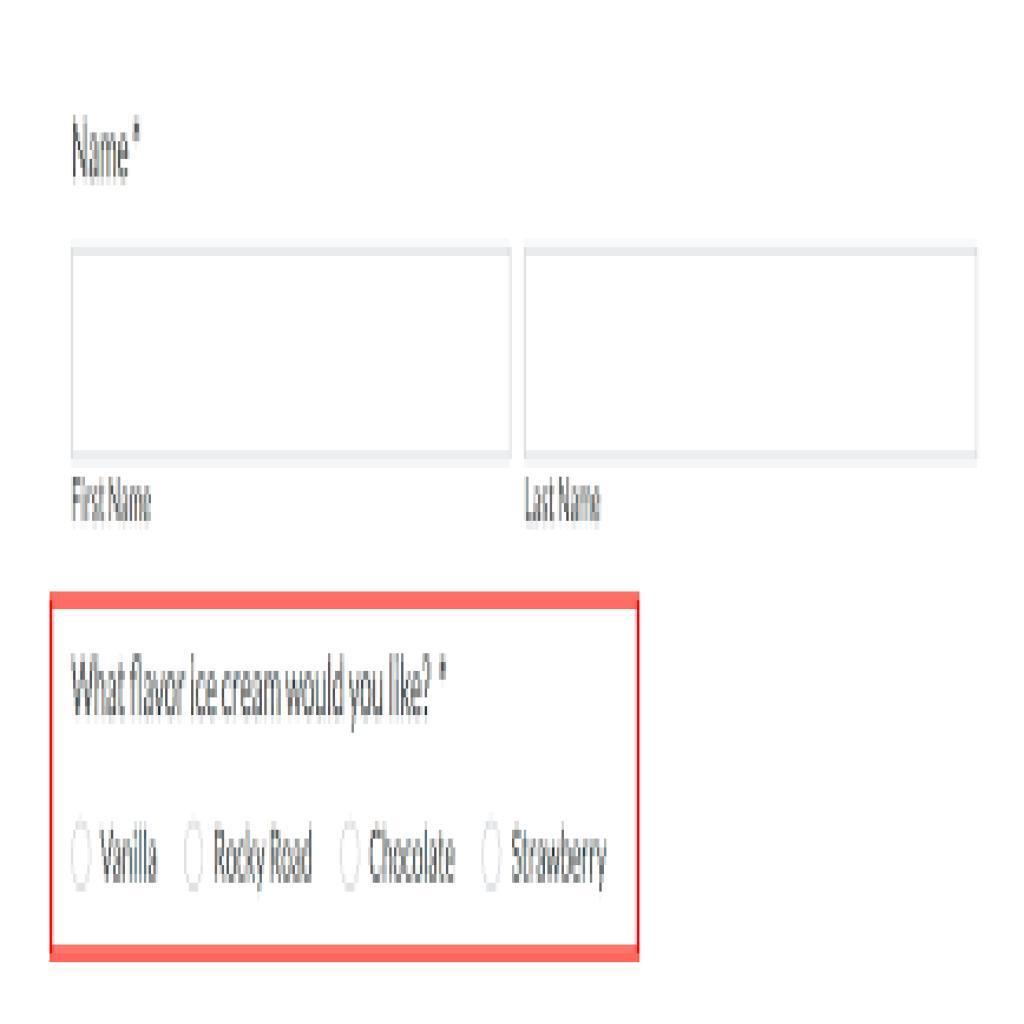input: (526, 250, 981, 453), (71, 252, 513, 458)
radio: (182, 819, 210, 892), (479, 820, 506, 893), (338, 823, 365, 894), (69, 822, 95, 892)
